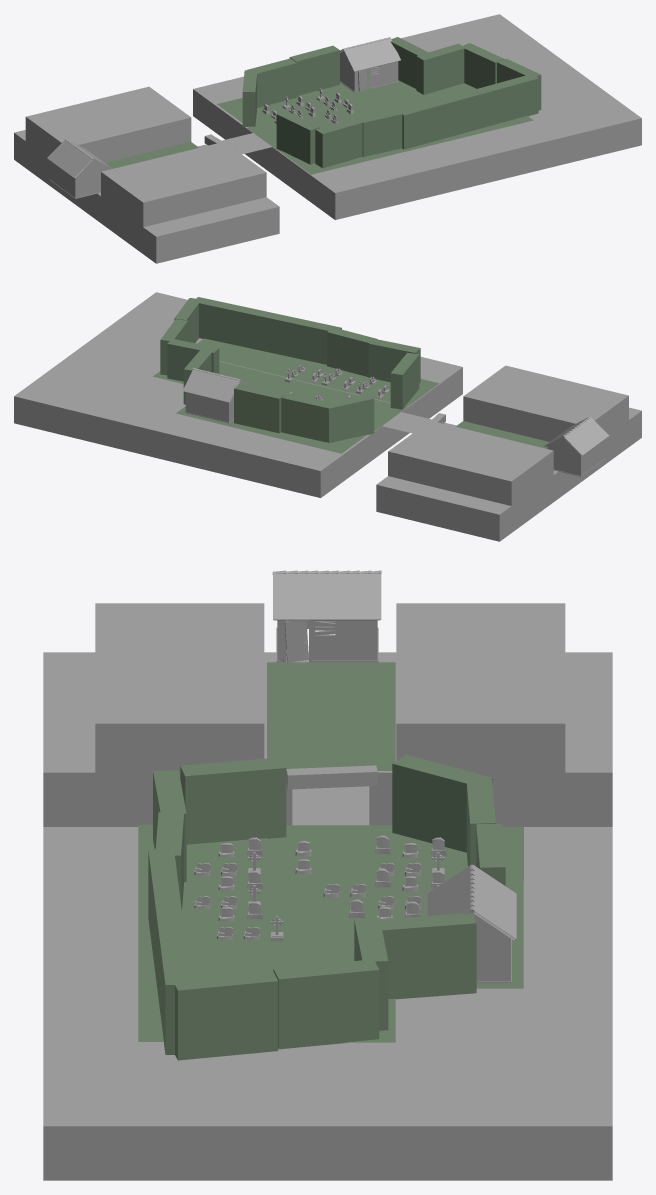
File: Graybox_redesign_1.fbx
3 views of the same model, one above another, from view 1: azimuth 30°, elevation 25°; view 2: azimuth 150°, elevation 25°; view 3: azimuth 270°, elevation 25° (orthographic). The views are drawn at different scales.
Parts seen in each view (by area): view 1: pCube12, pCube13, pCube10, pCube11, pCube21, polySurface23, polySurface24, pCube24, pCube19, pCube17, pCube16, pCube20 (+13 smaller); view 2: pCube12, pCube10, pCube13, pCube11, pCube21, polySurface24, polySurface23, pCube17, pCube15, pPlane6, pCube16, pCube20 (+13 smaller); view 3: pCube12, pCube10, pCube13, pCube11, pPlane1, pPlane3, polySurface24, pCube22, pCube23, pCube18, pCube25, pPlane7 (+14 smaller).
Part boxes in pixels (x1,y1,x2,y2): pCube12: [193, 14, 641, 219]; pCube13: [101, 141, 266, 227]; pCube10: [25, 86, 191, 162]; pCube11: [14, 130, 279, 263]; pCube21: [398, 73, 538, 149]; polySurface23: [340, 37, 400, 92]; polySurface24: [47, 138, 111, 198]; pCube24: [416, 43, 464, 94]; pCube19: [315, 117, 364, 168]; pCube17: [289, 45, 339, 95]; pCube16: [247, 58, 297, 107]; pCube20: [359, 108, 407, 156]; pCube12: [14, 292, 462, 497]; pCube10: [388, 420, 553, 505]; pCube13: [463, 365, 628, 441]; pCube11: [376, 407, 641, 541]; pCube21: [192, 297, 341, 364]; polySurface24: [544, 416, 609, 476]; polySurface23: [183, 367, 251, 423]; pCube17: [234, 384, 285, 433]; pCube15: [324, 394, 374, 442]; pPlane6: [197, 338, 318, 379]; pCube16: [281, 393, 331, 442]; pCube20: [327, 327, 377, 376]; pCube12: [43, 827, 612, 1180]; pCube10: [396, 603, 565, 777]; pCube13: [95, 603, 264, 777]; pCube11: [43, 652, 612, 826]; pPlane1: [267, 662, 395, 770]; pPlane3: [267, 825, 395, 933]; polySurface24: [272, 570, 381, 662]; pCube22: [175, 970, 278, 1060]; pCube23: [273, 959, 379, 1049]; pCube18: [180, 757, 286, 844]; pCube25: [372, 913, 476, 999]; pPlane7: [138, 824, 266, 932].
Bounding box in the file's own units: 45.82 × 5.59 × 22.12.
